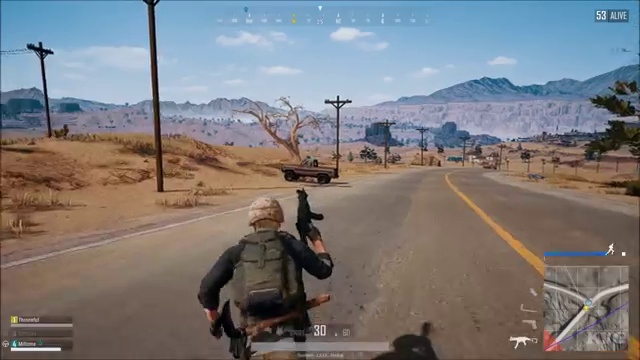Player: (162, 189, 374, 320)
